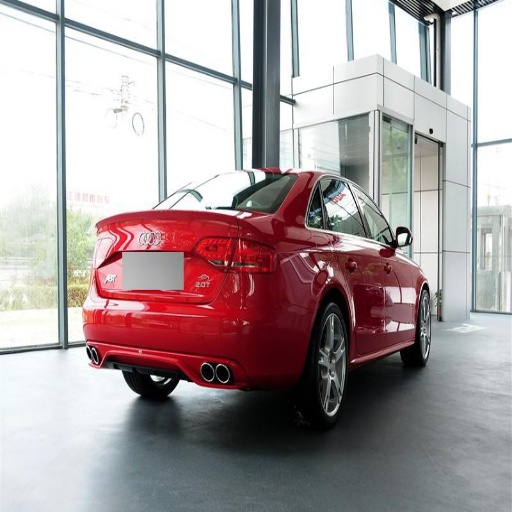_background_: (85, 274, 316, 390)
back_bumper: (177, 173, 292, 211)
back_left_light: (314, 174, 378, 352)
back_right_door: (231, 233, 273, 272)
front_left_light: (349, 184, 408, 344)
tailgate: (99, 209, 260, 346)
trunk: (309, 302, 347, 426), (408, 288, 432, 366)
